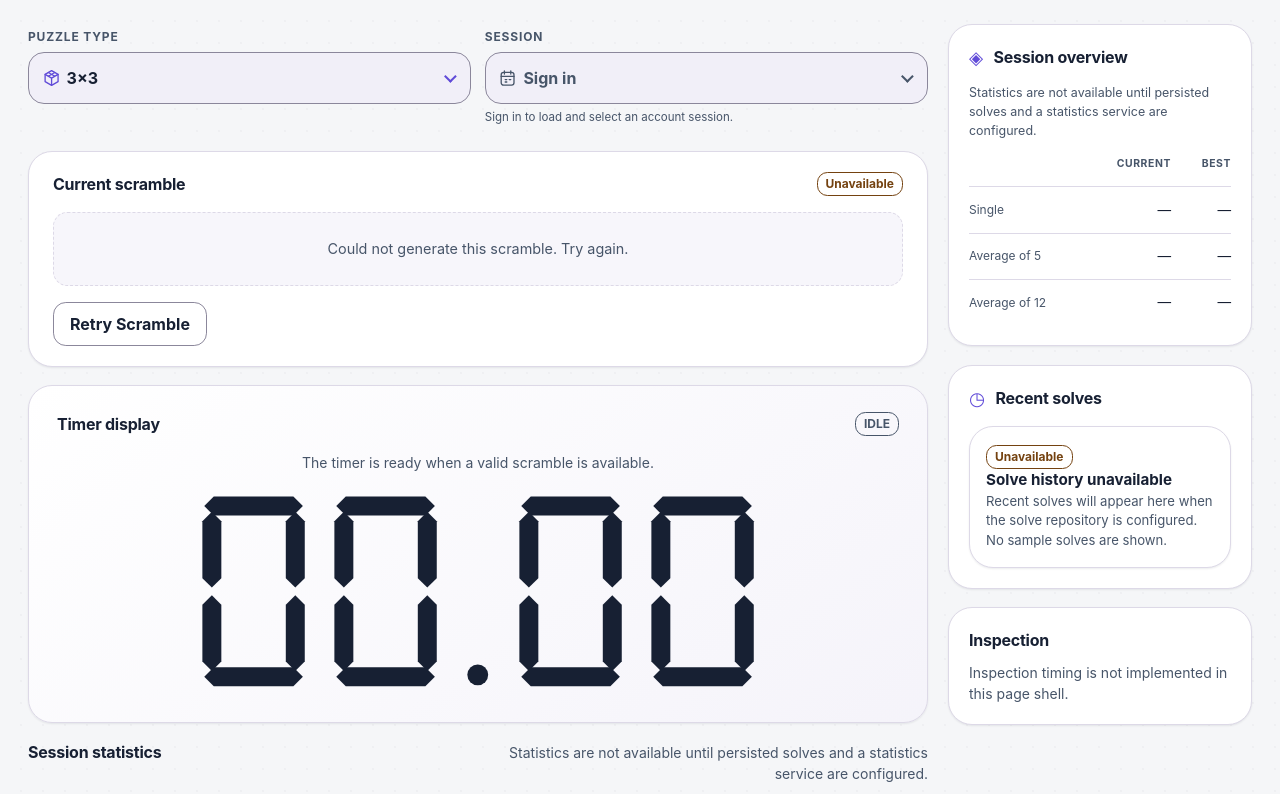
Scenario: timer-to-cloud-save slice › shows generation failure, offers retry, and prevents timer start until retry succeeds
Check: the text "Could not generate this scramble. Try again." is shown, box left=53, top=212, right=903, bottom=286
Check: the button "Retry Scramble" is enabled, box left=53, top=302, right=207, bottom=346
Press Space
Click the button "Retry Scramble".
click(130, 324)  # box left=53, top=302, right=207, bottom=346
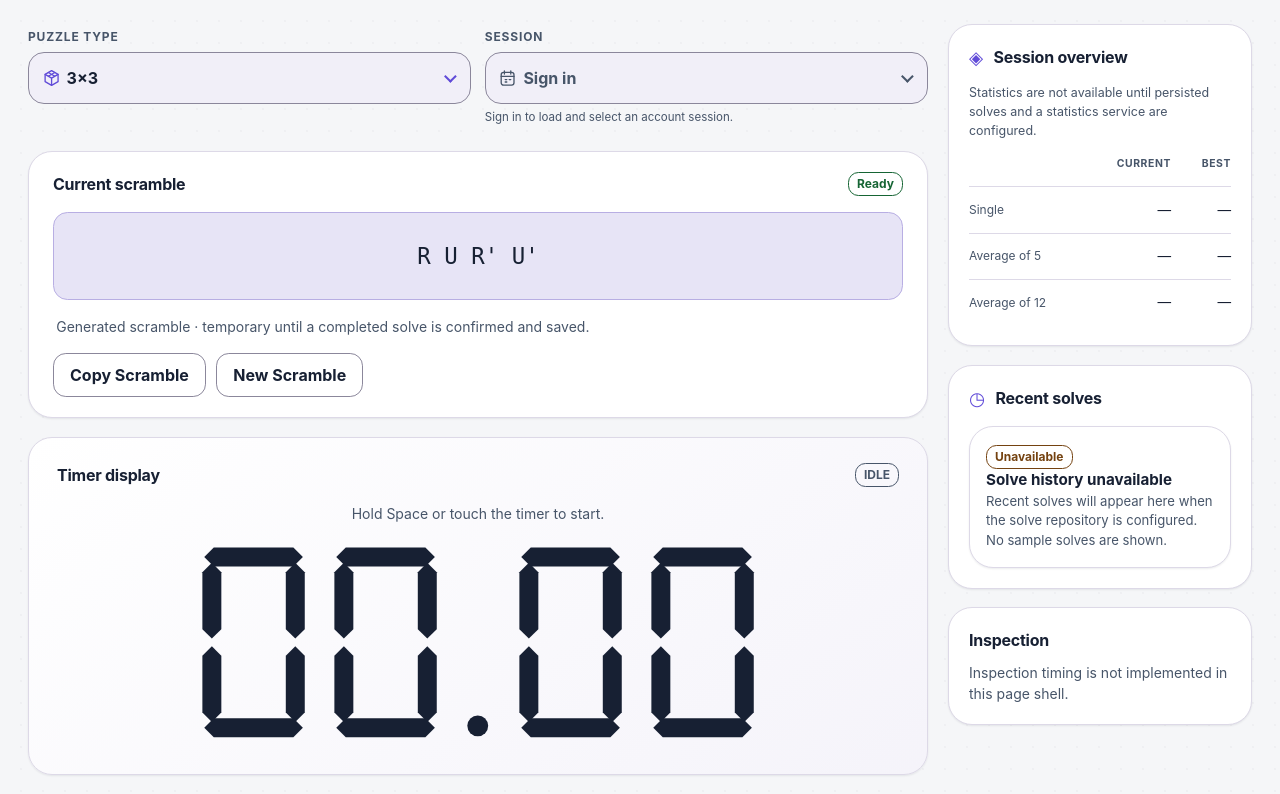
Check: the text "R U R' U'" is shown, box left=53, top=212, right=903, bottom=300
Check: the button named "Timer control" is enabled, box left=191, top=540, right=765, bottom=745
